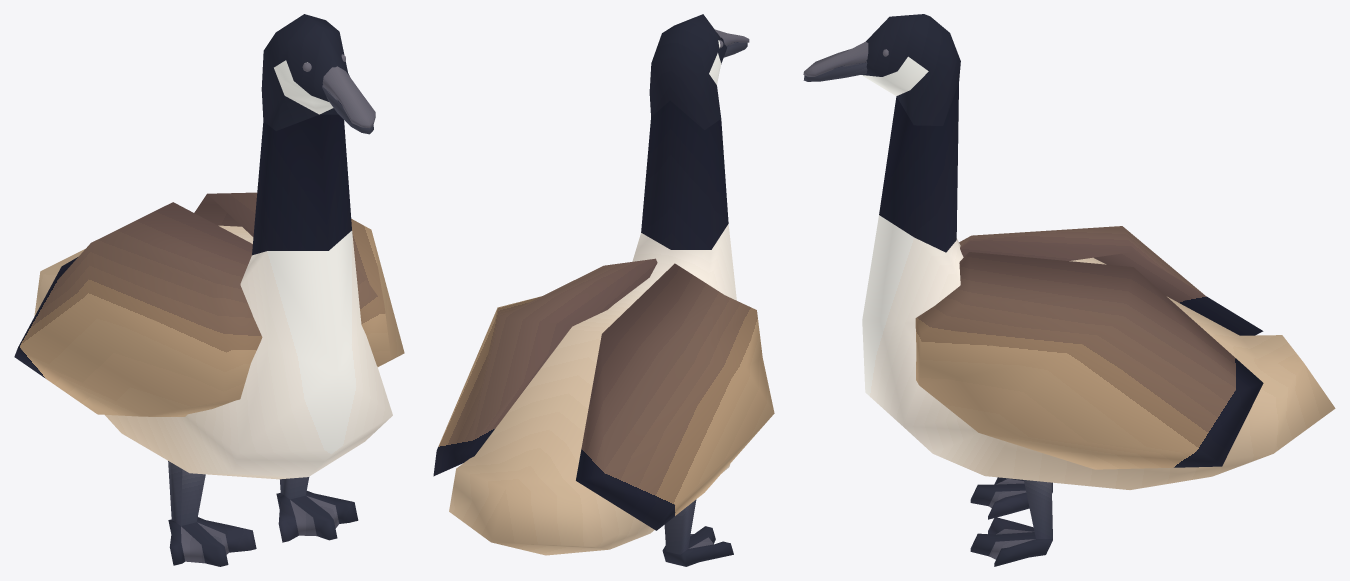
File: goose1.glb
The picture shows the model from 3 angles, left to right: view 1: azimuth 30°, elevation 25°; view 2: azimuth 150°, elevation 25°; view 3: azimuth 270°, elevation 25°; orthographic projection. The views are drawn at different scales.
Visible parts, largest first — view 1: Goose; view 2: Goose; view 3: Goose.
Boxes of the visible parts, <box> form: Goose: <box>14,14,404,566</box>; Goose: <box>433,14,774,566</box>; Goose: <box>803,14,1335,566</box>.
Size of the model in its own units: 0.4569 by 0.8612 by 0.8086.
1 material, 1 textured.
